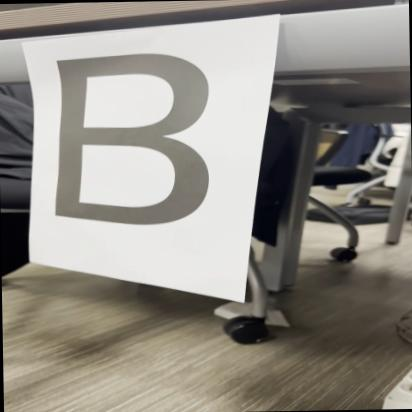seat: (44, 46, 224, 244)
